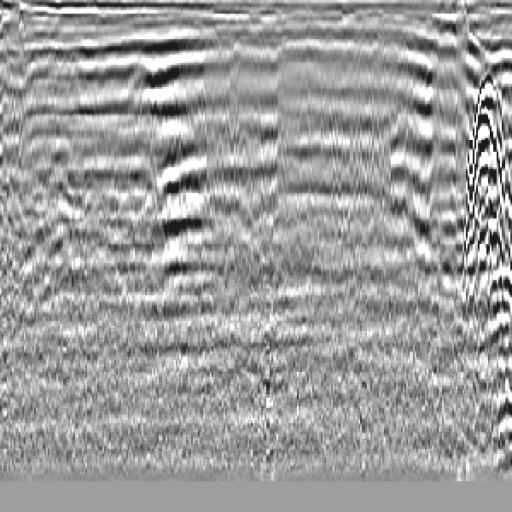non-metallic: (455, 41, 512, 390), (98, 23, 240, 122)
